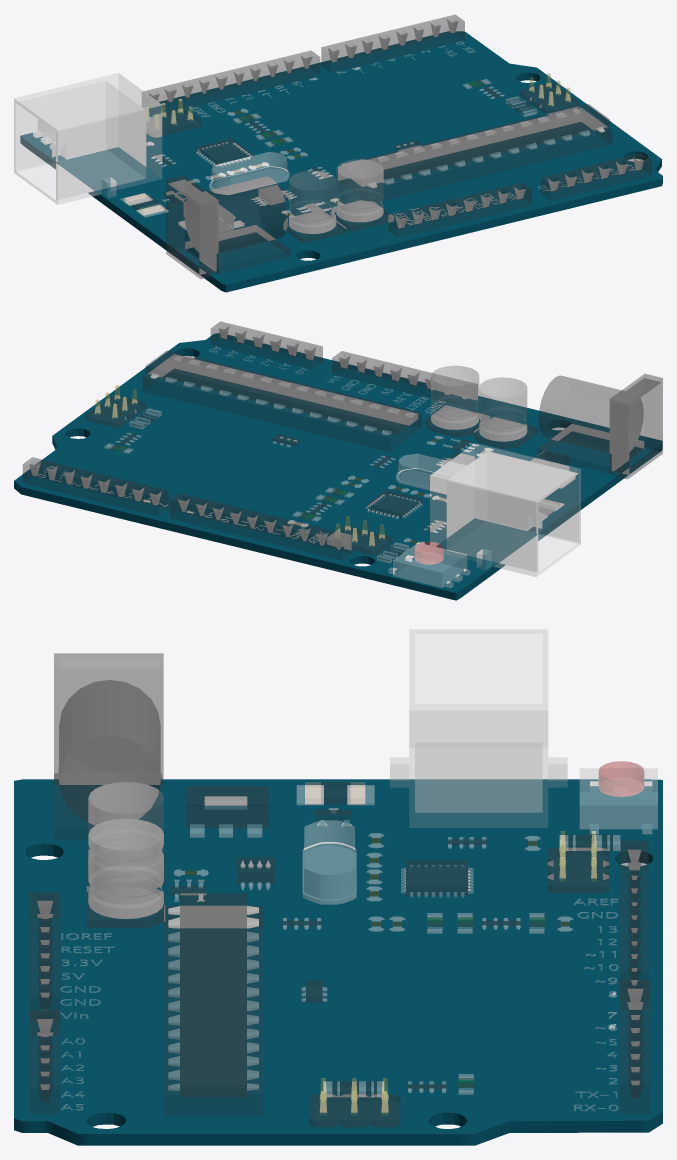
Rendered from arduino.glb.
3 views of the same model, one above another, from view 1: azimuth 30°, elevation 25°; view 2: azimuth 150°, elevation 25°; view 3: azimuth 270°, elevation 25° (orthographic). The views are drawn at different scales.
Visible parts, largest first — view 1: arduino, arduino.001, arduino.003, arduino.008, arduino.002, arduino.006, arduino.004, arduino.005; view 2: arduino, arduino.001, arduino.003, arduino.008, arduino.002, arduino.006, arduino.007, arduino.004, arduino.005; view 3: arduino, arduino.001, arduino.003, arduino.002, arduino.006, arduino.008, arduino.007, arduino.004, arduino.005.
Boxes of the visible parts, bbox=[...] form: arduino: bbox=[20, 31, 662, 292]; arduino.001: bbox=[14, 73, 161, 204]; arduino.003: bbox=[166, 175, 287, 278]; arduino.008: bbox=[142, 14, 464, 112]; arduino.002: bbox=[341, 104, 609, 186]; arduino.006: bbox=[289, 159, 383, 233]; arduino.004: bbox=[209, 152, 289, 194]; arduino.005: bbox=[178, 201, 244, 232]; arduino: bbox=[14, 321, 662, 600]; arduino.001: bbox=[430, 443, 580, 576]; arduino.003: bbox=[539, 374, 662, 479]; arduino.008: bbox=[23, 457, 351, 560]; arduino.002: bbox=[145, 350, 417, 434]; arduino.006: bbox=[431, 366, 526, 441]; arduino.007: bbox=[388, 542, 470, 587]; arduino.004: bbox=[396, 454, 465, 493]; arduino.005: bbox=[530, 450, 575, 488]; arduino: bbox=[14, 773, 662, 1145]; arduino.001: bbox=[390, 629, 567, 827]; arduino.003: bbox=[54, 653, 163, 824]; arduino.002: bbox=[168, 893, 258, 1096]; arduino.006: bbox=[88, 782, 163, 918]; arduino.008: bbox=[620, 841, 650, 1113]; arduino.007: bbox=[580, 761, 657, 833]; arduino.004: bbox=[303, 820, 356, 904]; arduino.005: bbox=[186, 786, 268, 837].
Bounding box in the file's own units: 184 × 28.73 × 130.
